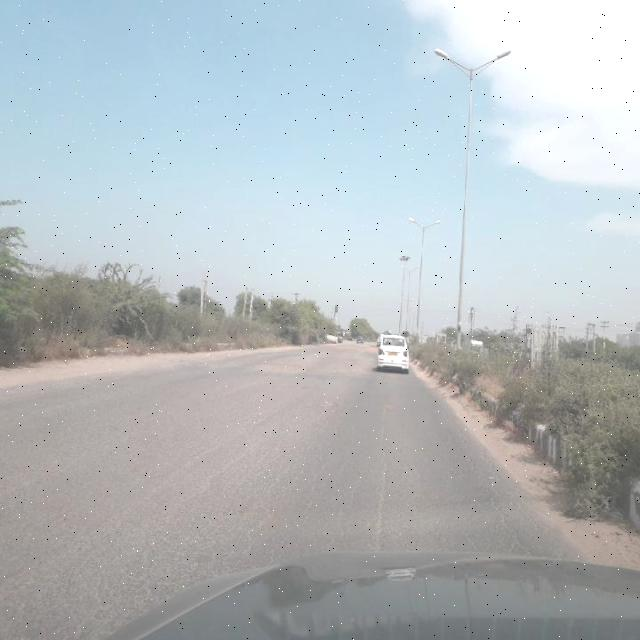D00: (462, 430, 542, 553), (370, 388, 396, 542)
D20: (28, 433, 268, 597)
D40: (235, 348, 321, 377)
